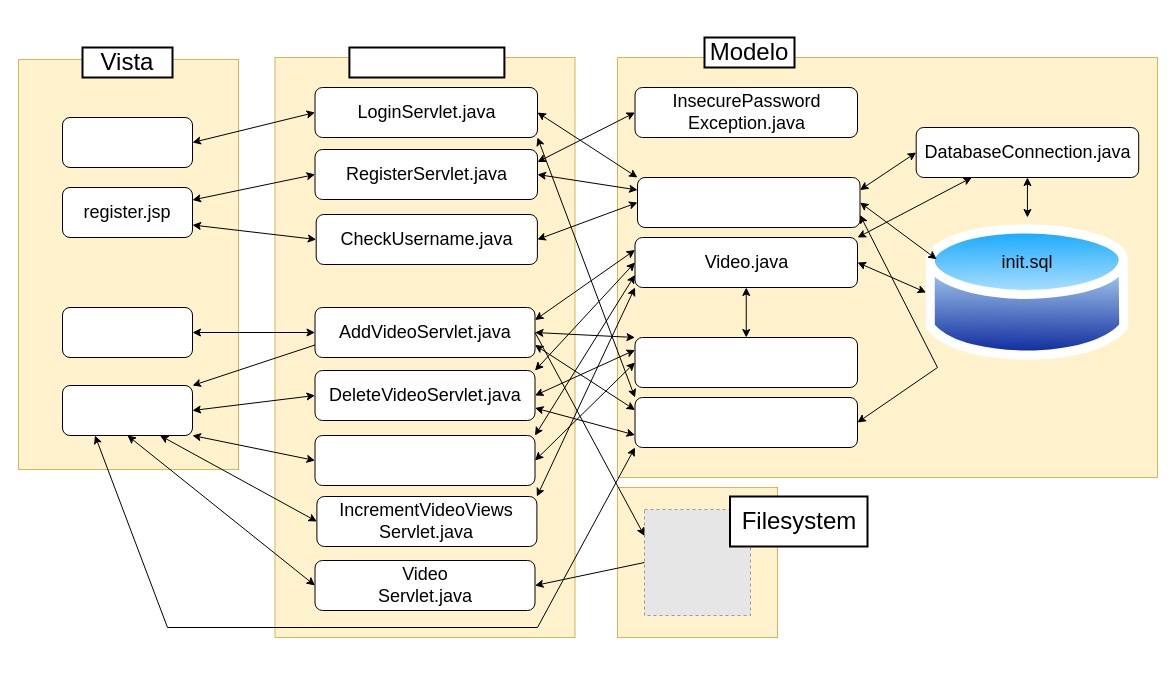
Image size: 1175x684. Some labels were removed from this diagram. Grey dashed boxes stand in for pictures. Here are the shapes that lost their labels. From the top down, the centre of each, then its label:
At (x=426, y=62): "Controlador".
At (x=127, y=142): "login.jsp".
At (x=748, y=202): "User.java".
At (x=127, y=332): "addVideo.jsp".
At (x=746, y=362): "VideoEntity.java".
At (x=127, y=410): "getVideos.jsp".
At (x=746, y=422): "UserEntity.java".
At (x=424, y=460): "GetVideosServlet.java".
